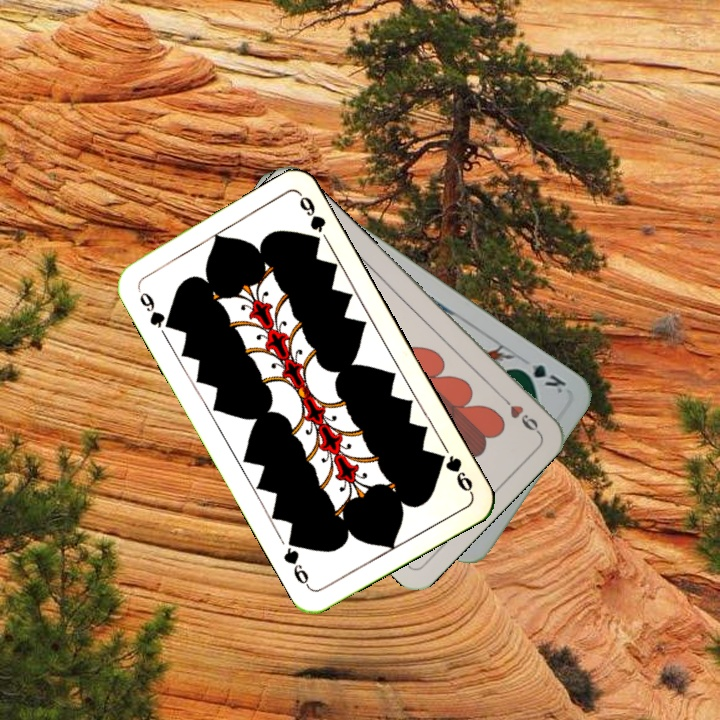G9: (431, 448, 476, 497), (133, 284, 176, 333)
GK: (513, 360, 569, 396)
H9: (495, 391, 542, 437)
